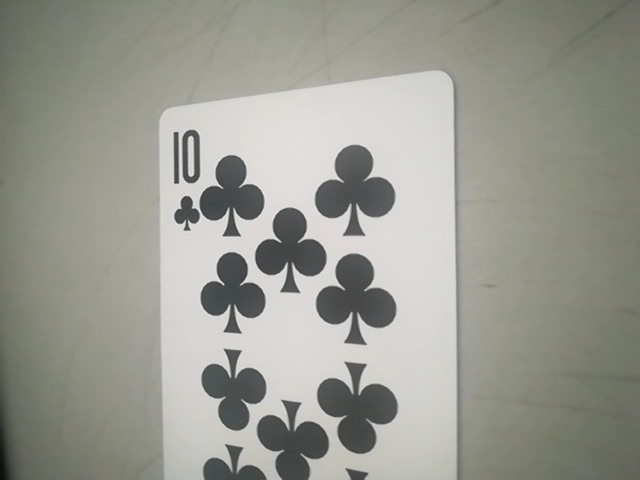mh 10: (161, 75, 475, 477)
